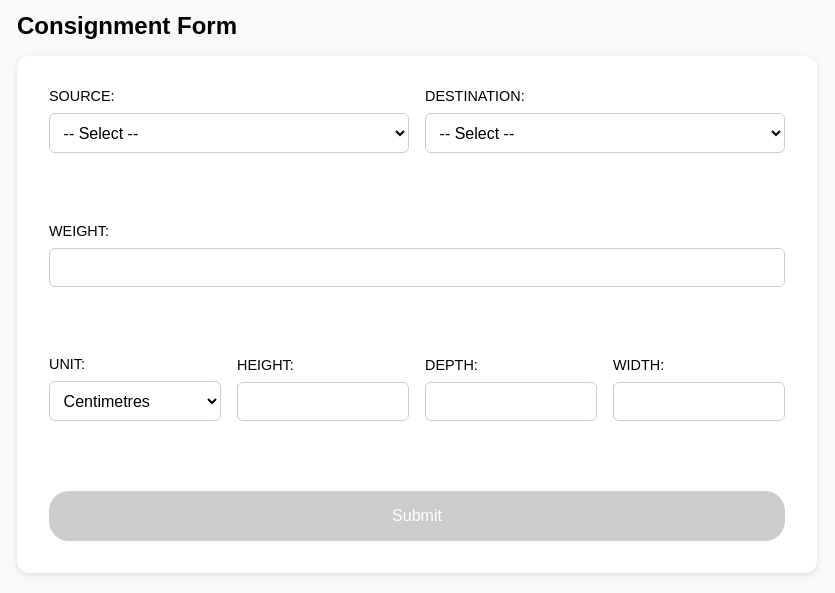
Test case: App Component › unit conversion works correctly
The width and height of the screenshot is (835, 593).
Type "10" into the number field labelled "HEIGHT:".
click(323, 402); type("10")  # box [237,382,409,421]
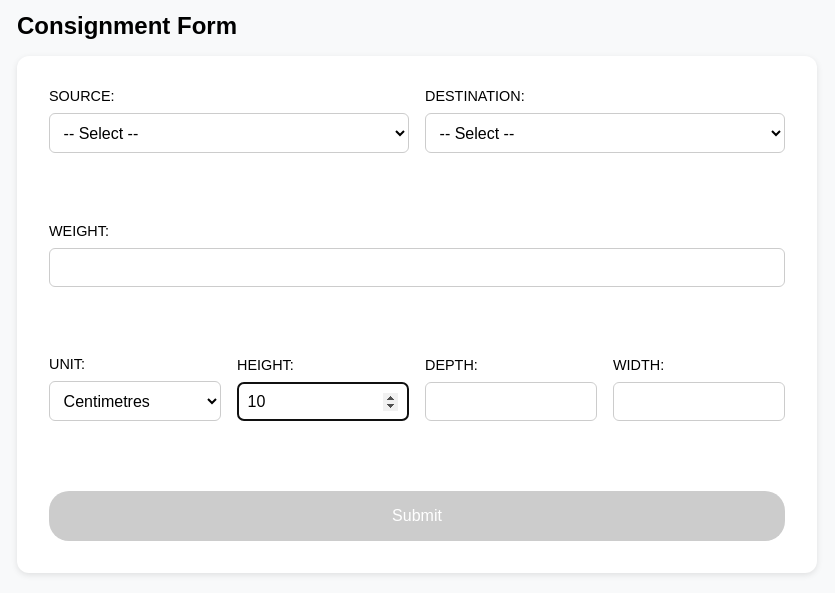
Select "Millimetres" in the dropdown labelled "UNIT:" at [135, 401], box [49,381,221,421]
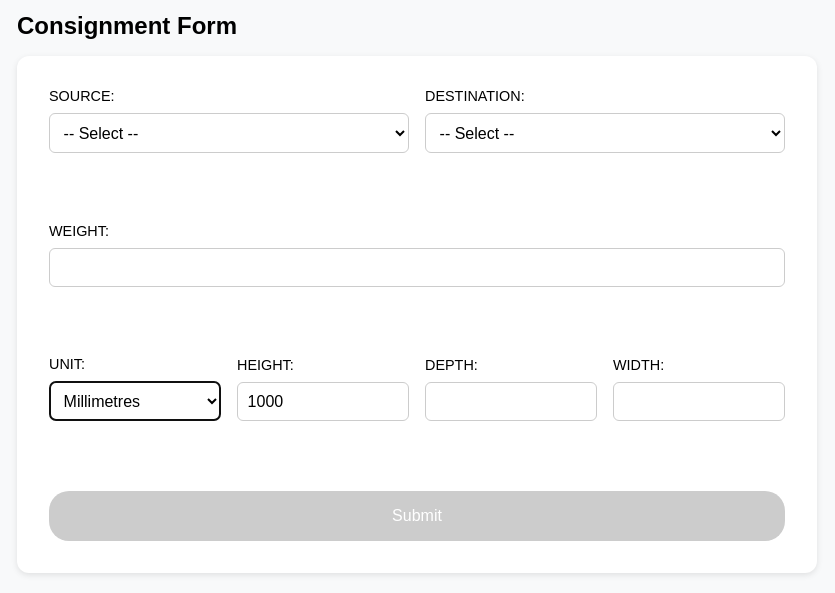
Expected: the number field labelled "HEIGHT:" holds "1000", [237,382,409,421]
